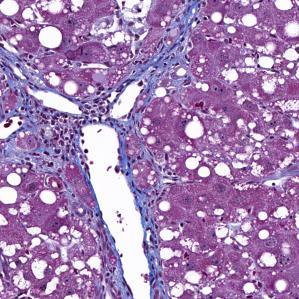fibrosis: (13, 72, 95, 164), (124, 27, 196, 113)
